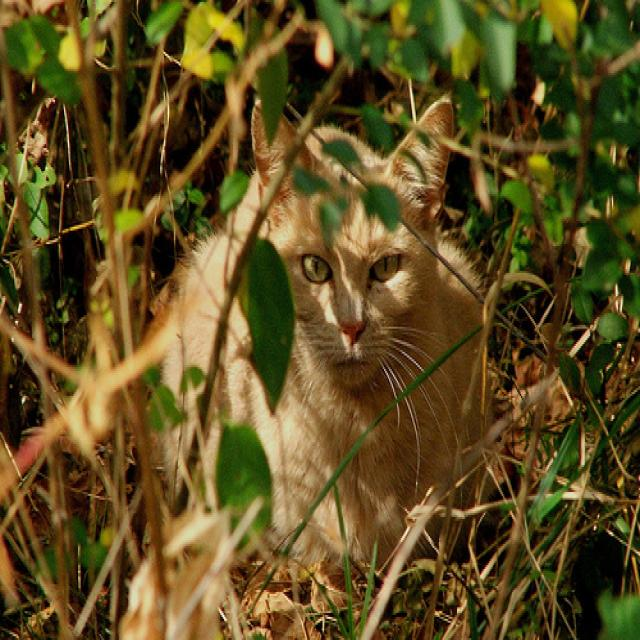left eye: (366, 248, 403, 282)
